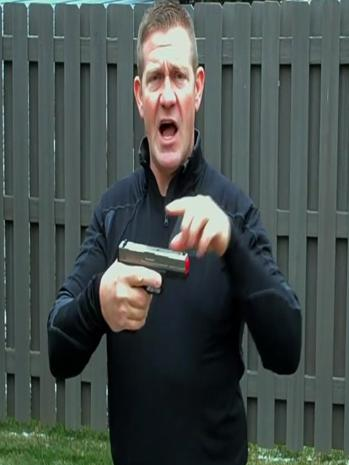pistol: (114, 238, 192, 332)
